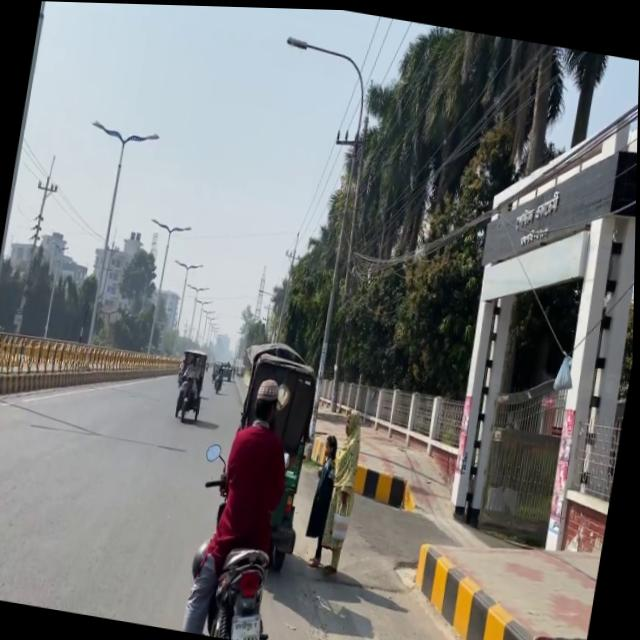Construction-barrier: (401, 522, 601, 640), (350, 461, 423, 510)
Fallen-tree: (172, 347, 212, 424), (210, 359, 228, 392), (222, 359, 236, 380)
Garbage-bin: (182, 368, 311, 640), (303, 430, 344, 567)
Pole: (0, 326, 164, 425)
Pothole: (331, 411, 619, 640)
